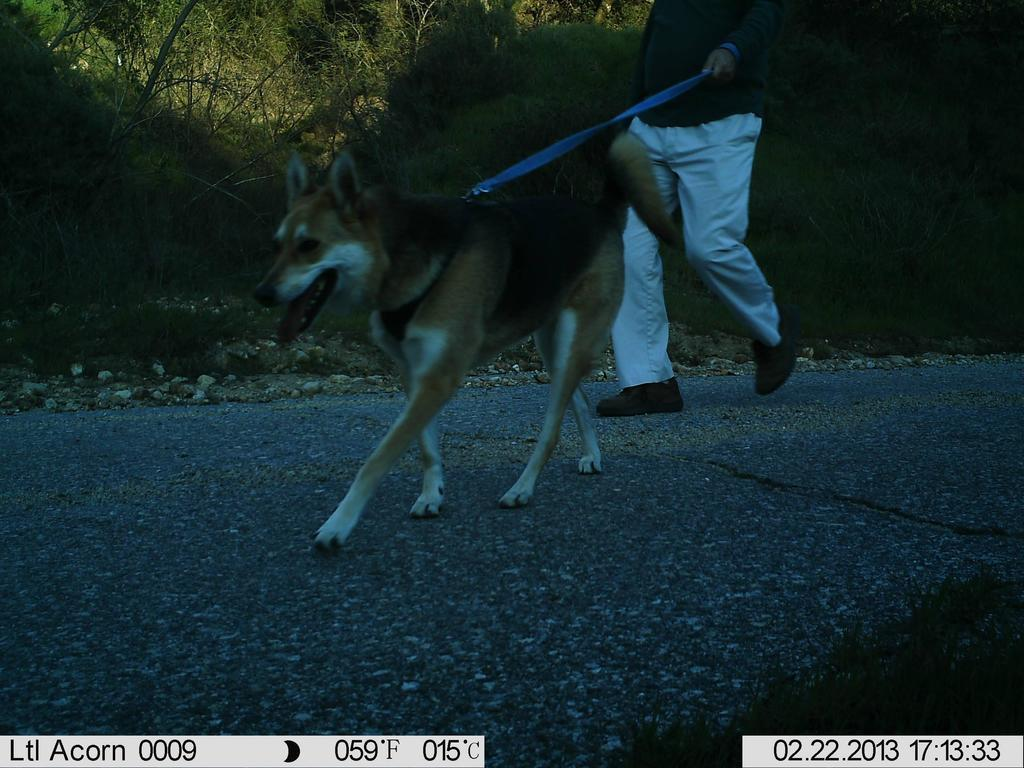dog: (247, 136, 683, 556)
